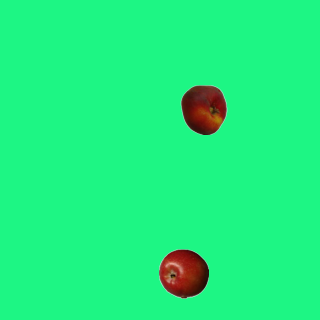Apple Braeburn: (158, 248, 208, 298)
Nectarine Flat: (178, 84, 228, 134)
